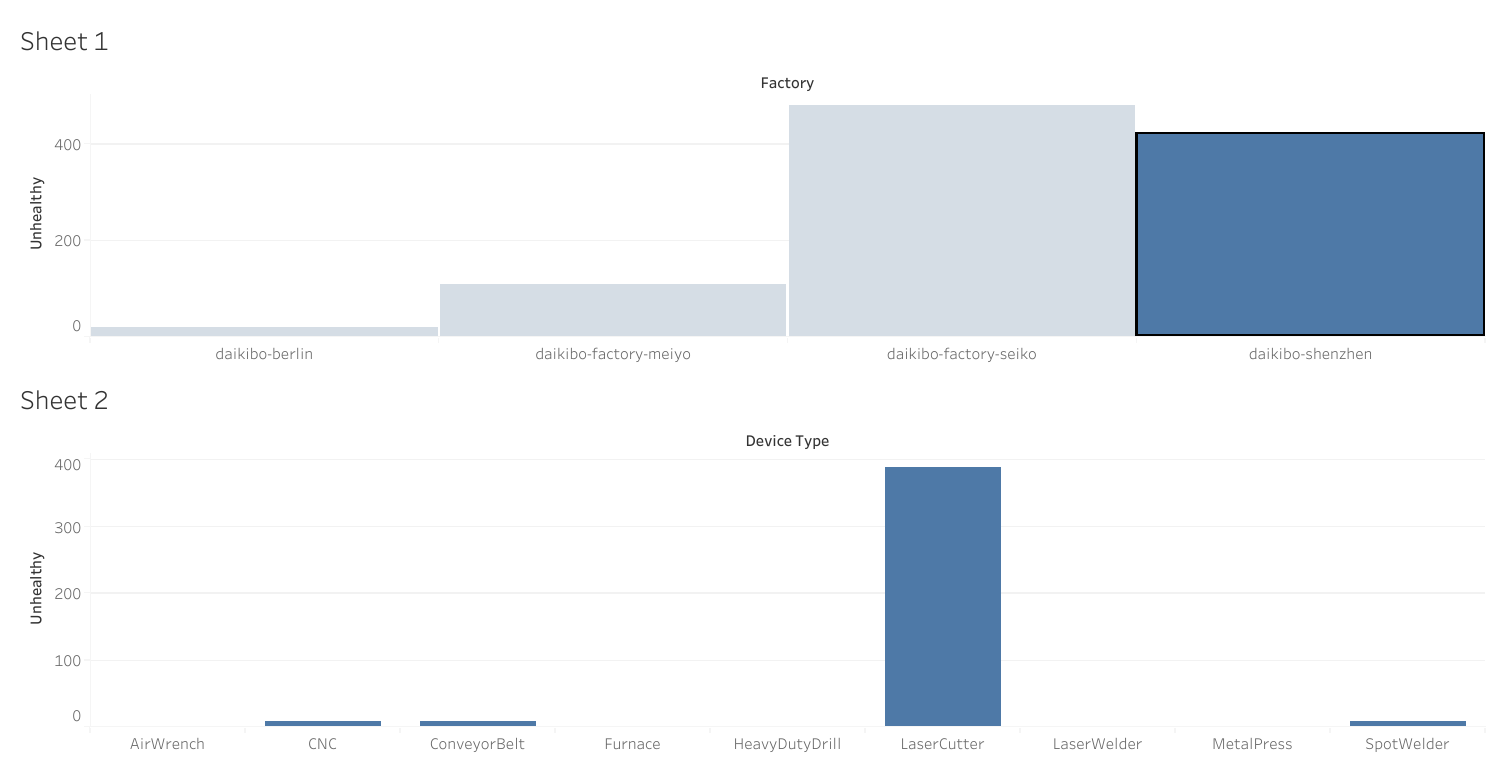

This screenshot's page, from the dashboard's own definition file:
{"tool":"tableau","page":{"name":"Dashboard 1","canvas":[1000,1000],"units":"permille","ordinal":0},"visuals":[{"type":"worksheet","title":"Sheet 1","mark":"Automatic","rows":["Calculation_911415997761286144"],"cols":["factory"],"box":[6.7,10,986.7,468.8]},{"type":"worksheet","title":"Sheet 2","mark":"Automatic","rows":["Calculation_911415997761286144"],"cols":["deviceType"],"box":[6.7,478.8,986.7,511.2]}]}

Visuals, with their boxes on the dashboard's canvas, which has no fixed pixel size, in thousandths of its width and height (x1, y1, x2, y2). These are canvas units, not pixel positions in the 1499x768 screenshot, which may show the page scaled, cropped or inside an application window:
"Sheet 1" worksheet: [left=7, top=10, right=993, bottom=479]
"Sheet 2" worksheet: [left=7, top=479, right=993, bottom=990]
